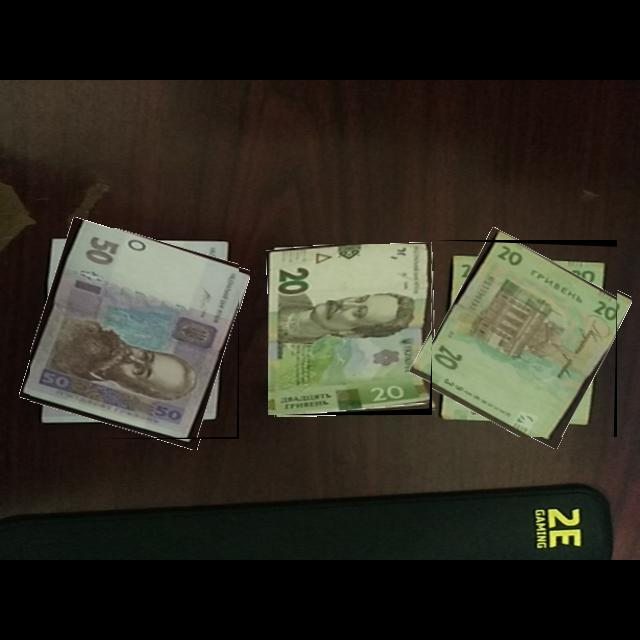20uah: (432, 240, 618, 438), (268, 244, 438, 416)
50uah: (30, 228, 240, 440)
